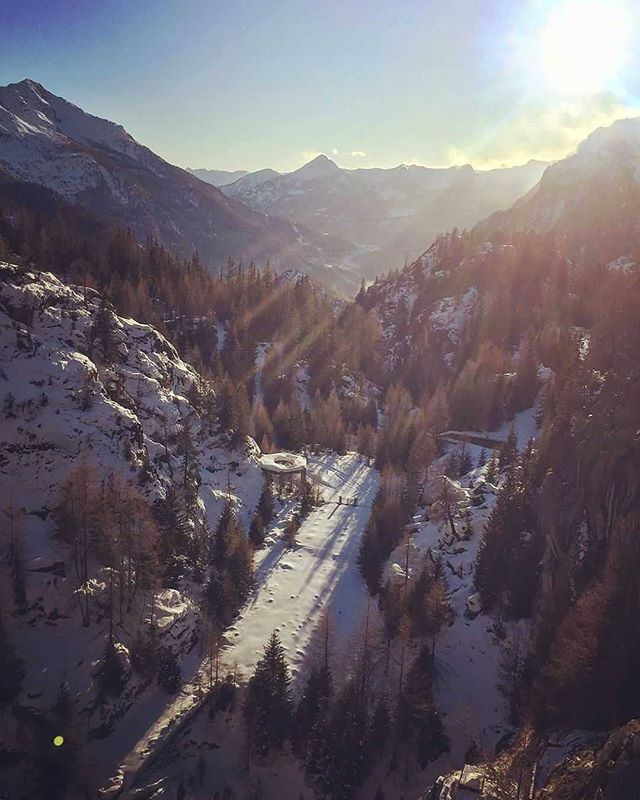mountain: (3, 75, 323, 289), (386, 108, 640, 303), (220, 136, 554, 242)
sky: (10, 8, 640, 144)
vegetation: (30, 231, 624, 439), (360, 354, 639, 780), (52, 447, 249, 691)
